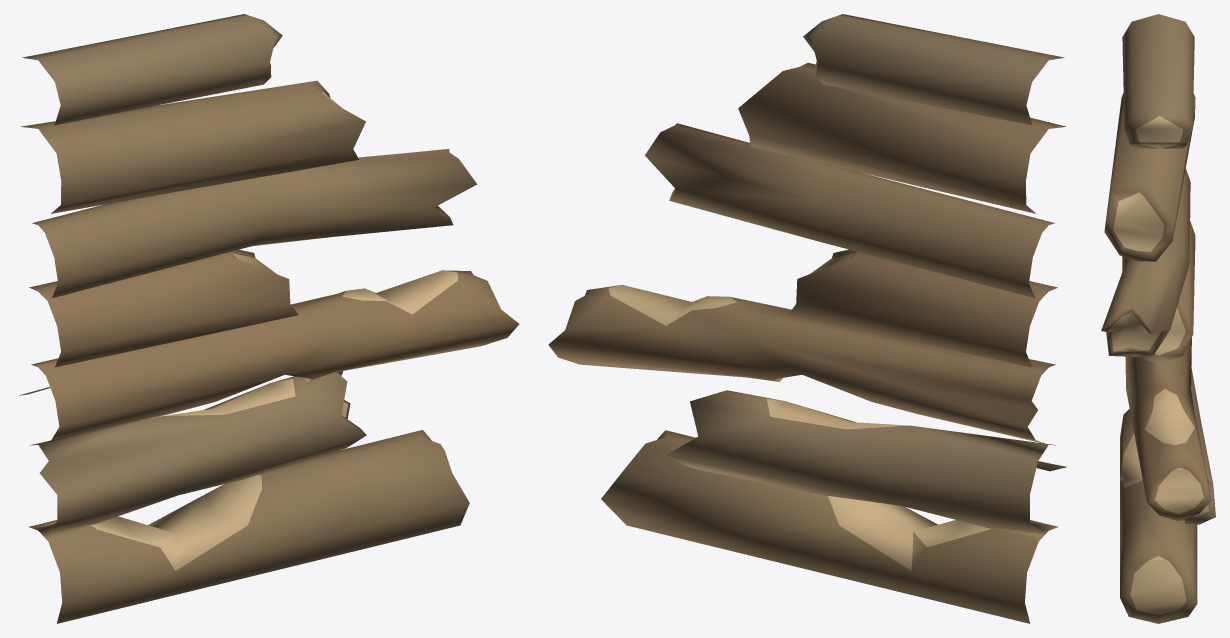
File: rpgpp_av_wall_03_3x3_f.gltf
The picture shows the model from 3 angles, left to right: view 1: azimuth 30°, elevation 25°; view 2: azimuth 150°, elevation 25°; view 3: azimuth 270°, elevation 25°; orthographic projection. The views are drawn at different scales.
Parts seen in each view (by area): view 1: rpgpp_av_wall_03_3x3_f; view 2: rpgpp_av_wall_03_3x3_f; view 3: rpgpp_av_wall_03_3x3_f.
Boxes of the visible parts, x1,y1,x2,y2 form: rpgpp_av_wall_03_3x3_f: [19, 14, 519, 623]; rpgpp_av_wall_03_3x3_f: [548, 14, 1066, 623]; rpgpp_av_wall_03_3x3_f: [1101, 14, 1215, 623].
Bounding box in the file's own units: 0.0265 × 0.03 × 0.00689.
1 material, 1 textured.
